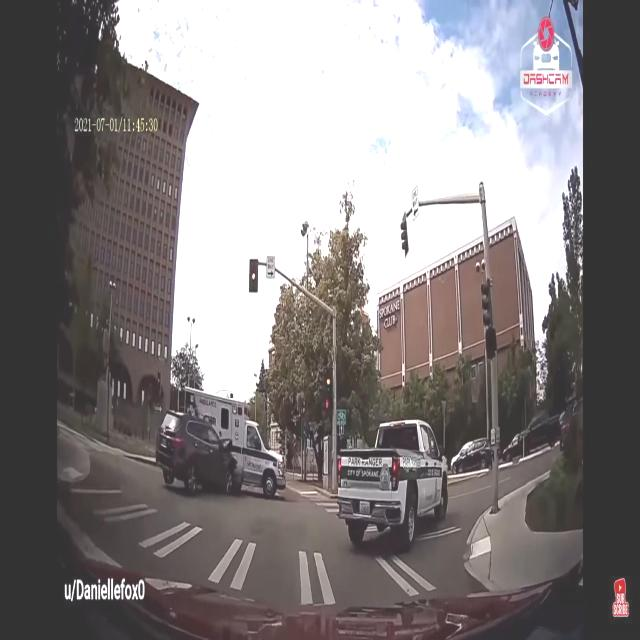accident: (156, 383, 290, 503)
non-accident: (335, 418, 495, 550), (449, 412, 568, 478)
